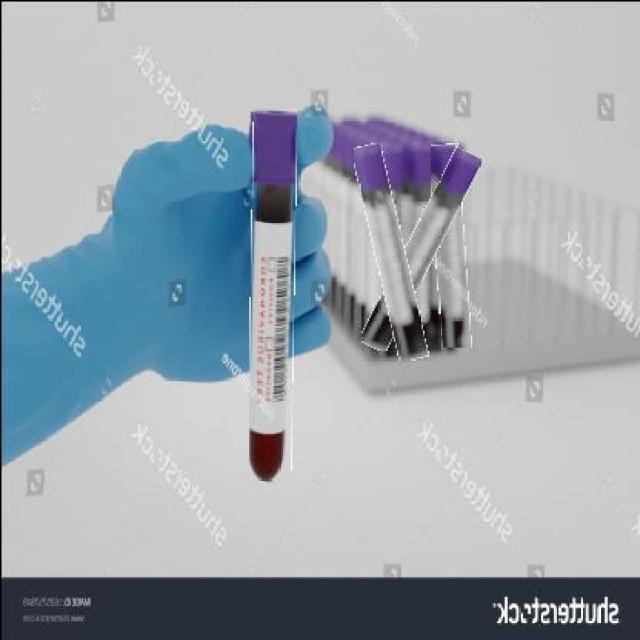Experimental-tube: (247, 108, 295, 480), (380, 142, 458, 355), (362, 142, 416, 360), (430, 142, 467, 348)
